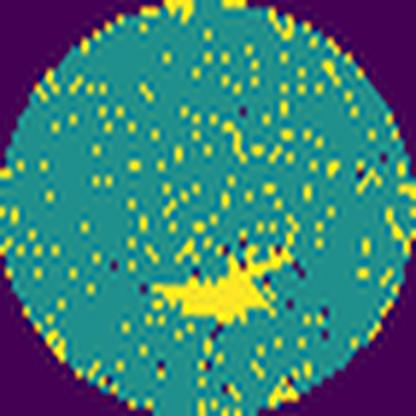Loc: (148, 239, 298, 327)
